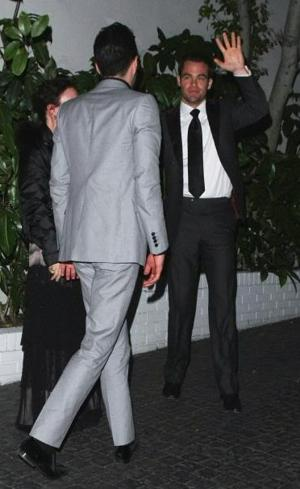person: (162, 30, 271, 408)
